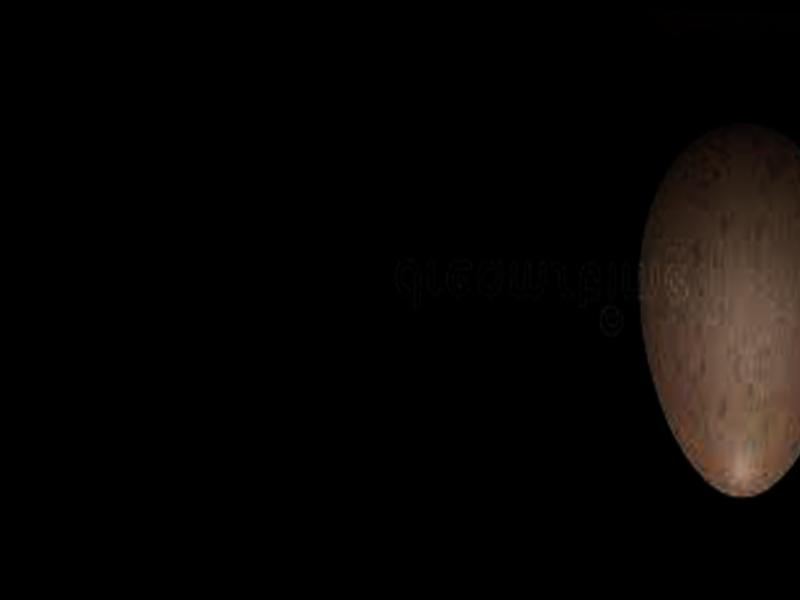Eggs: (636, 119, 800, 502)
